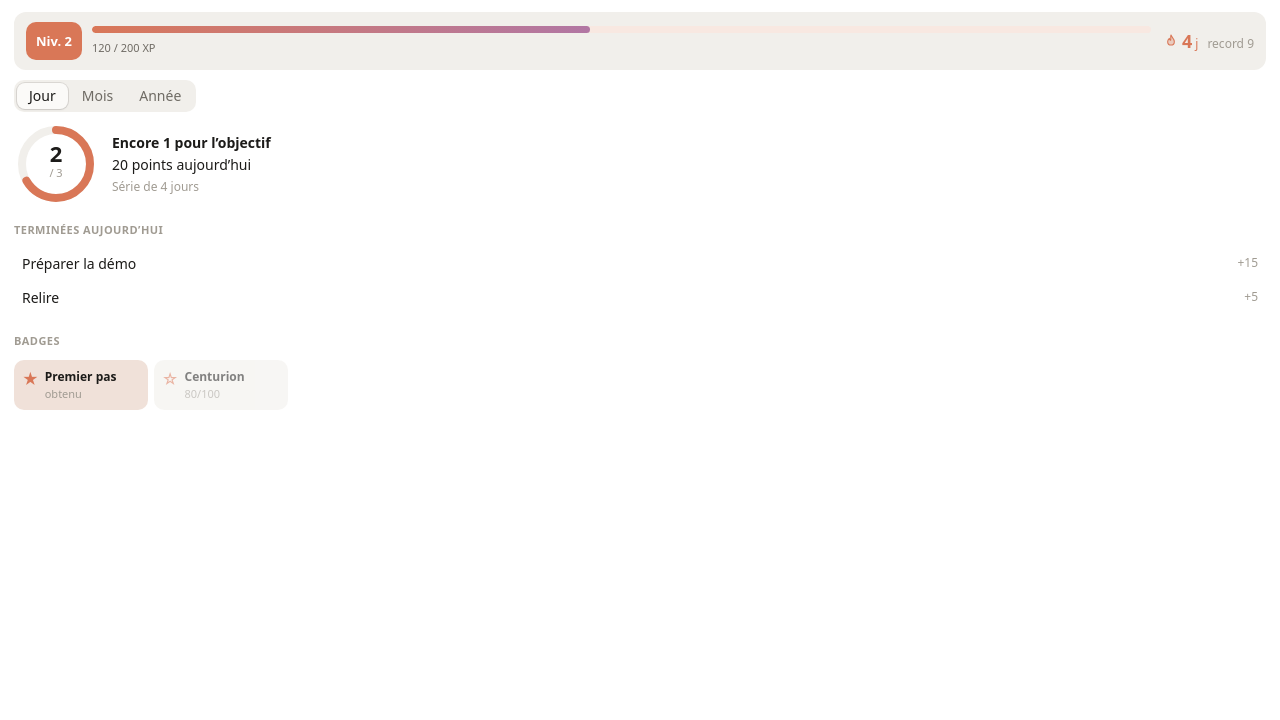
Test case: ProgressView › year: heatmap of the whole year and best month
Step 1. Click the button "Année" → (160, 96), box [127,83,193,109]
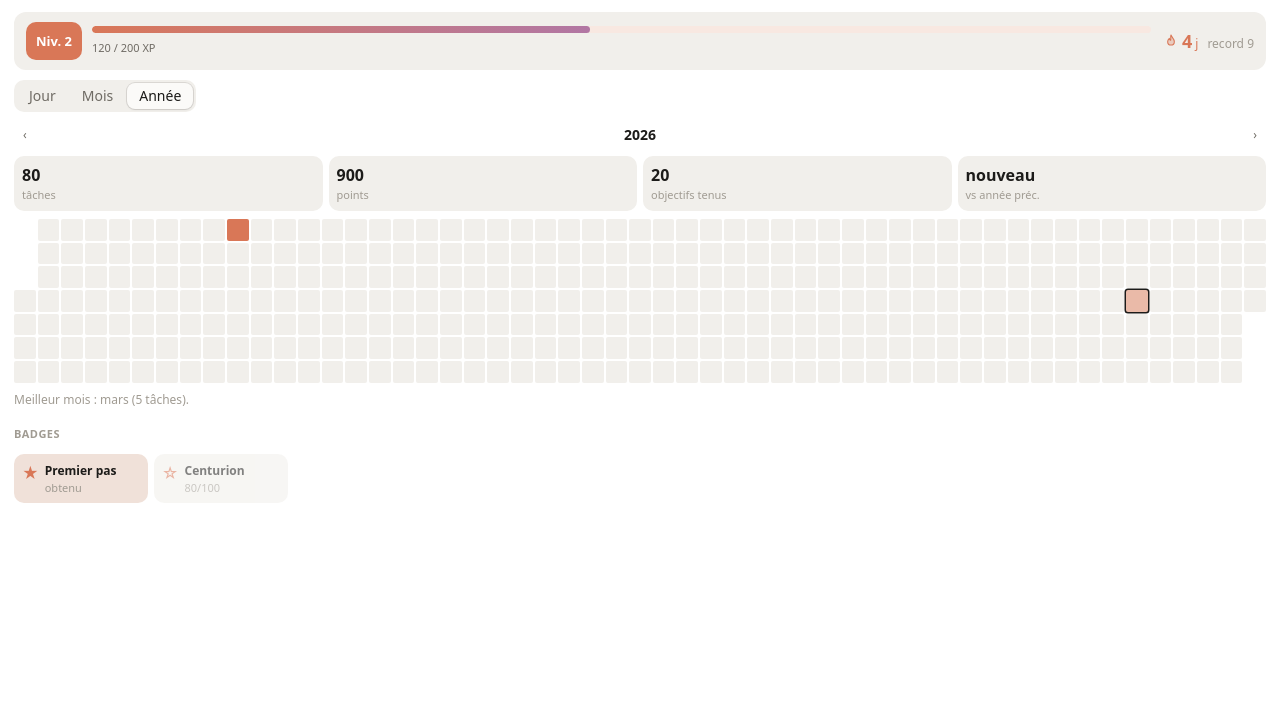
Expected: the text "Meilleur mois : mars (5 tâches)." is shown, [14,391,189,408]
Expected: the text "nouveau" is shown, [966,164,1035,186]
